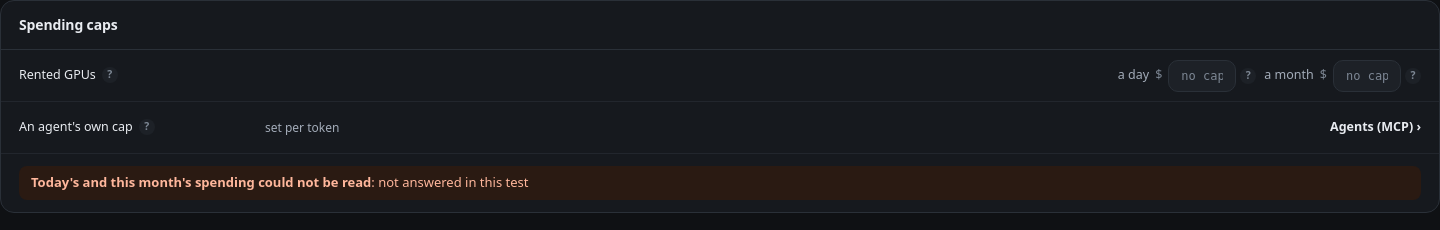
Test case: Settings › Costs' caps › refuses a 0 and a cap in euros, says why, and saves nothing (0 would be no cap, €50 is not $50)
Type "0" into the field named "Cap a day" at coordinates (1202, 76), box [1168,60,1236,92]
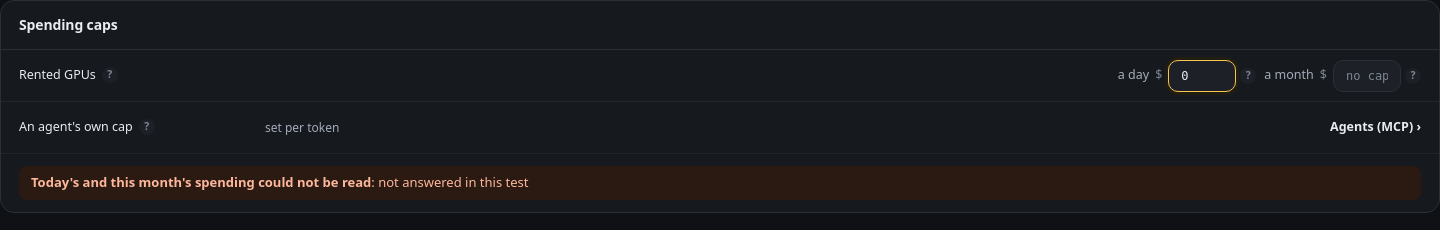
Press Tab
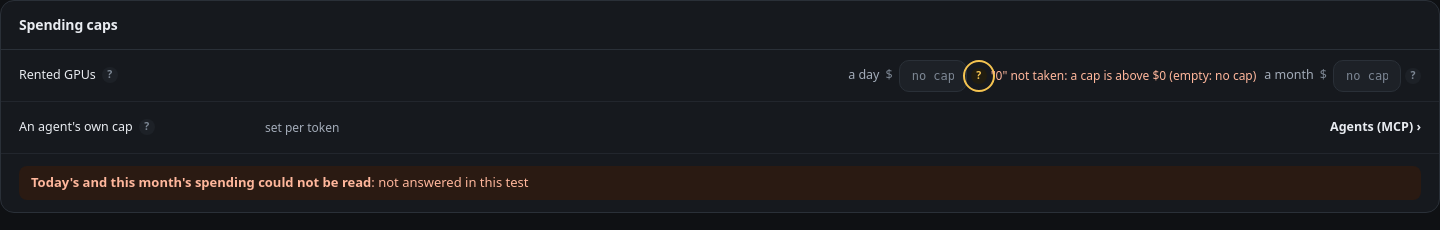
Expected: the text "\"0\" not taken: a cap is above $0 (empty: no cap)" is shown, [991,68,1256,84]
Type "€50" into the field named "Cap a month" at coordinates (1367, 76), box [1333,60,1401,92]
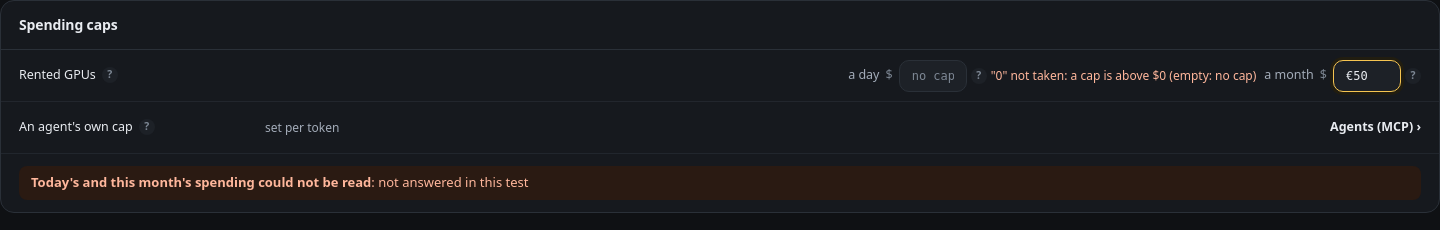
Press Tab
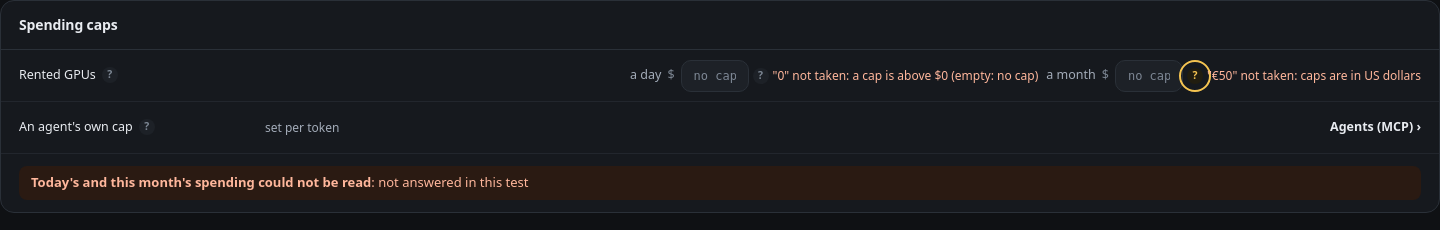
Expected: the field named "Cap a day" is empty, [681,60,749,92]
Expected: the text "\"€50\" not taken: caps are in US dollars" is shown, [1207,68,1421,84]
Expected: the field named "Cap a month" is empty, [1115,60,1183,92]
